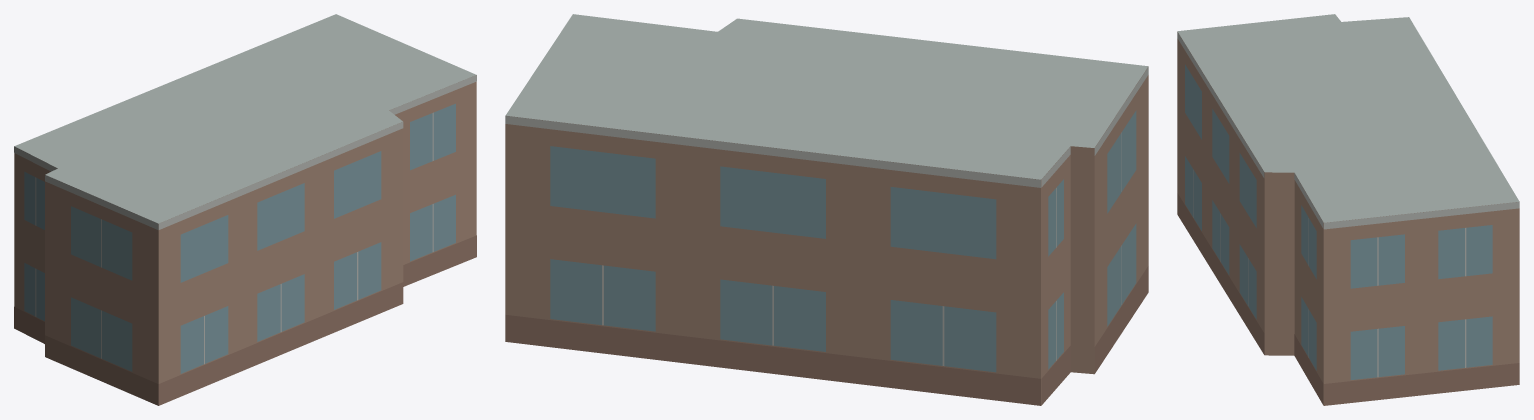
The model's file is survey-upis-32904303.glb.
3 views of the same model, side by side, from view 1: azimuth 30°, elevation 25°; view 2: azimuth 150°, elevation 25°; view 3: azimuth 270°, elevation 25° (orthographic). The views are drawn at different scales.
Parts seen in each view (by area): view 1: survey-upis-32904303.tmp; view 2: survey-upis-32904303.tmp; view 3: survey-upis-32904303.tmp.
Boxes of the visible parts, x1=… form: survey-upis-32904303.tmp: x1=14, y1=14, x2=476, y2=405; survey-upis-32904303.tmp: x1=505, y1=14, x2=1148, y2=405; survey-upis-32904303.tmp: x1=1177, y1=14, x2=1519, y2=405.
Bounding box in the file's own units: 16.4 × 6.7 × 11.37.
